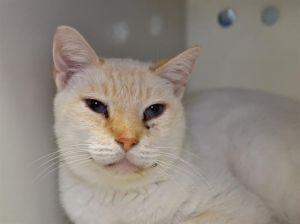siamese: (44, 23, 204, 194)
